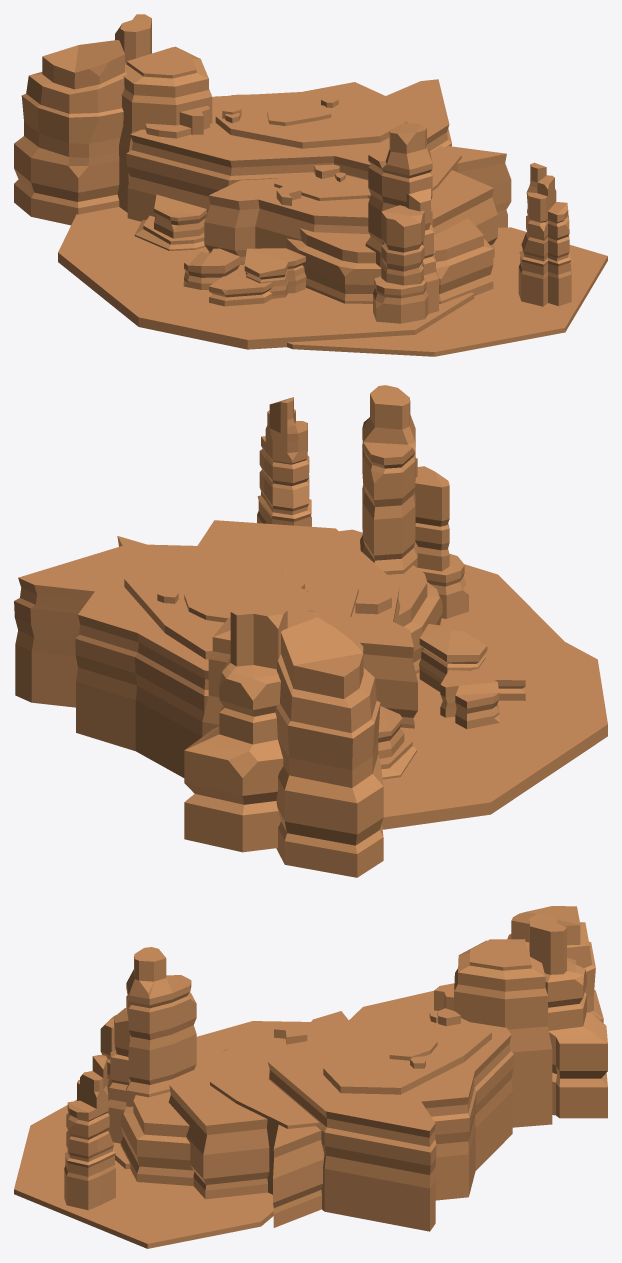
File: SandRocks1_LOD1.fbx
The picture shows the model from 3 angles, top to bottom: view 1: azimuth 30°, elevation 25°; view 2: azimuth 150°, elevation 25°; view 3: azimuth 270°, elevation 25°; orthographic projection. The views are drawn at different scales.
Visible parts, largest first — view 1: Plane.189; view 2: Plane.189; view 3: Plane.189.
Boxes of the visible parts, x1,y1,x2,y2 form: Plane.189: (14, 14, 607, 356); Plane.189: (14, 385, 607, 877); Plane.189: (14, 906, 607, 1248).
Size of the model in its own units: 328 by 139 by 378.
